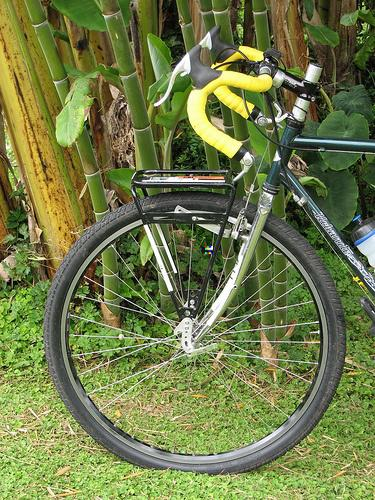car: (43, 24, 375, 476)
